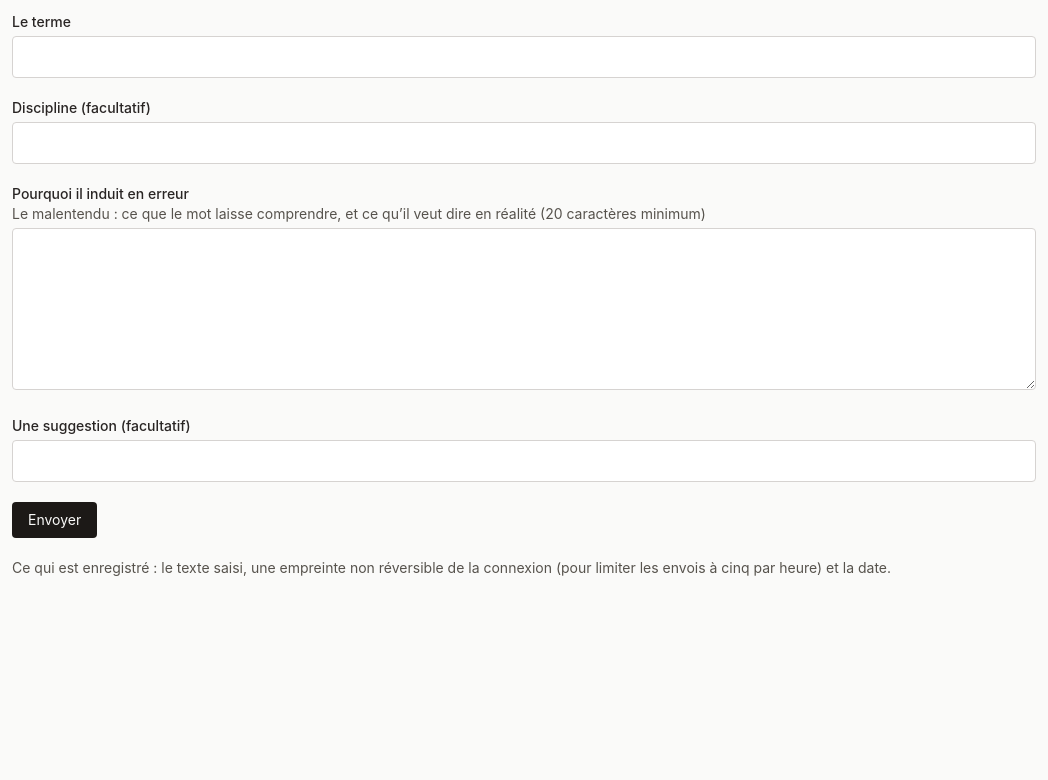
Test case: FormulaireProposition › affiche « Trop de propositions d’un coup : nouvel envoi possible dans une heure » après 429
The width and height of the screenshot is (1048, 780).
Type "Énergie" into the field labelled "Le terme" at (524, 57), box x1=12 y1=36 x2=1036 y2=78
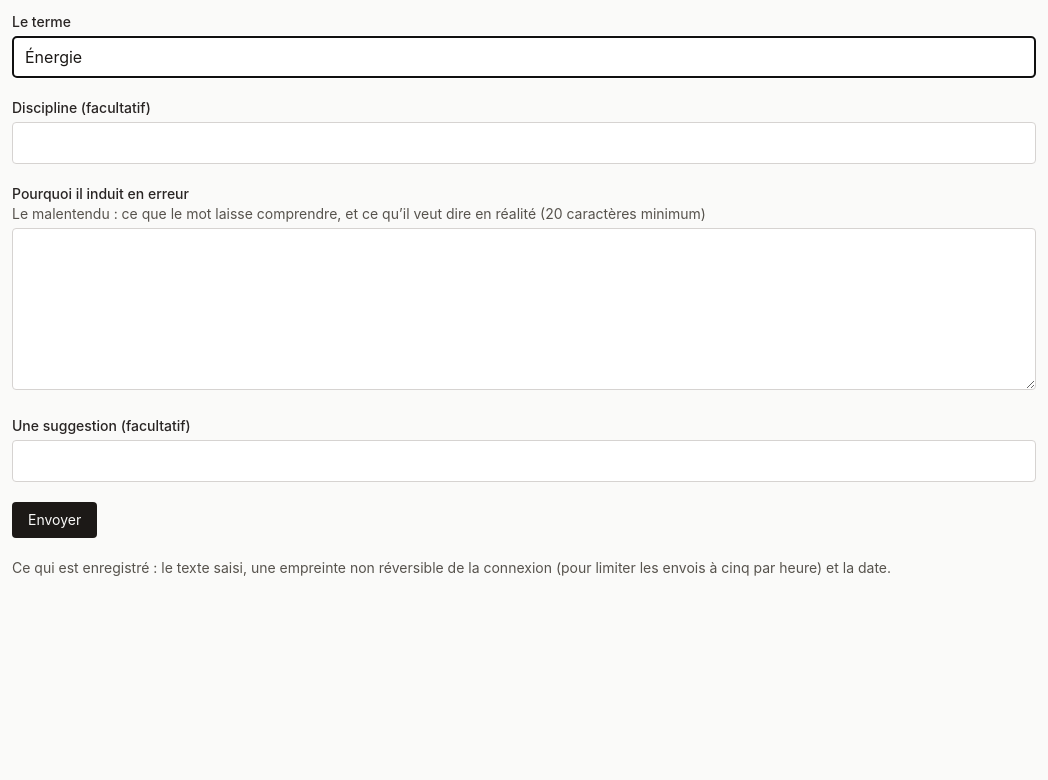
Type "Je croyais que ce mot voulait dire autre chose que son sens réel." into the text box labelled "Pourquoi il induit en erreur" at (524, 309), box x1=12 y1=228 x2=1036 y2=390
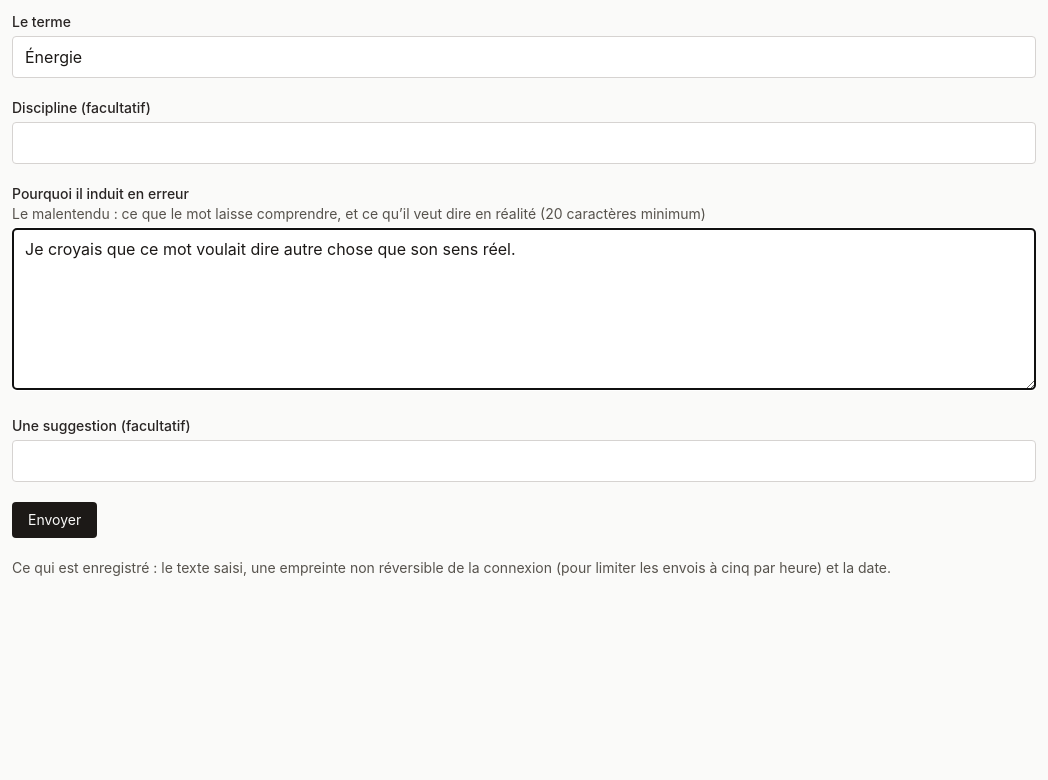
Click the button "Envoyer" at (55, 520), box x1=12 y1=502 x2=97 y2=538
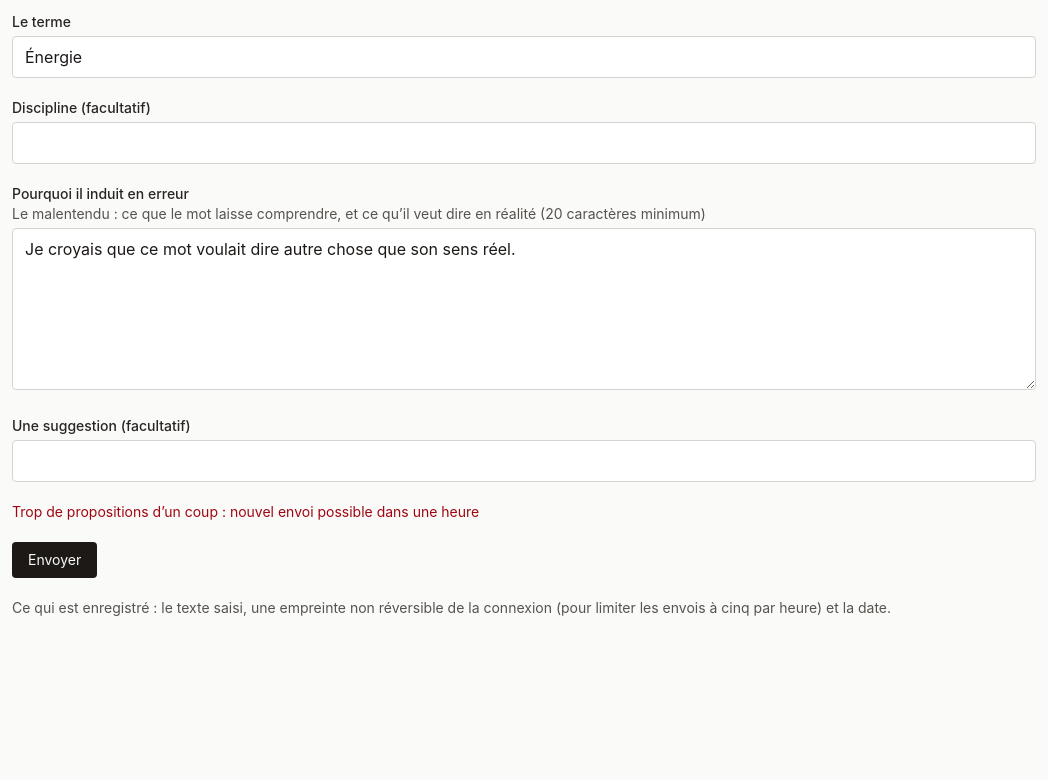
Expected: the text "Trop de propositions d’un coup : nouvel envoi possible dans une heure" is shown, x1=12 y1=503 x2=479 y2=520
